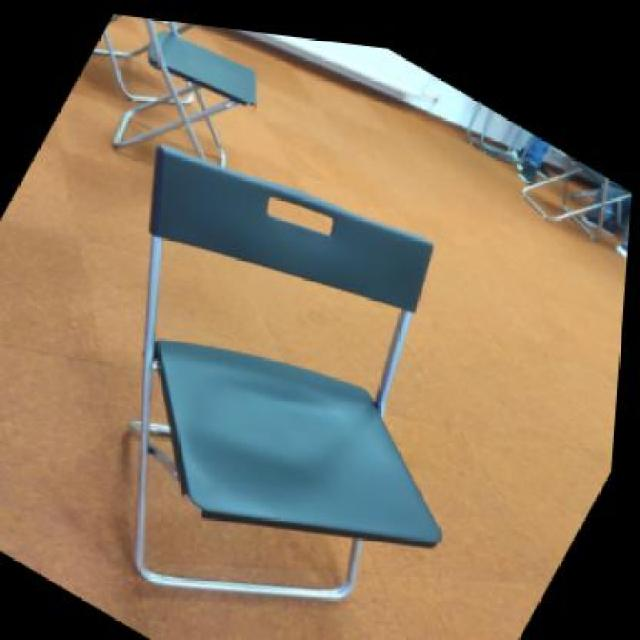chair: (0, 61, 580, 638), (52, 6, 323, 217)
